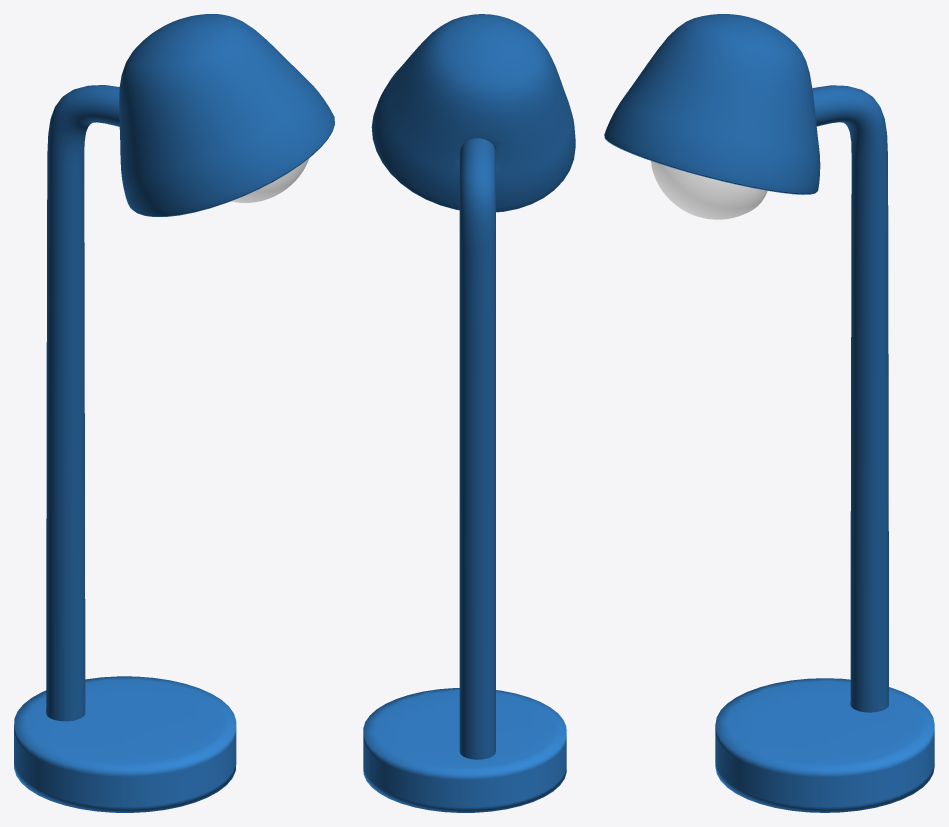
Rendered from 3D Lamp(1).fbx.
3 views of the same model, side by side, from view 1: azimuth 30°, elevation 25°; view 2: azimuth 150°, elevation 25°; view 3: azimuth 270°, elevation 25° (orthographic). The views are drawn at different scales.
Parts seen in each view (by area): view 1: pCylinder26; view 2: pCylinder26; view 3: pCylinder26.
Boxes of the visible parts, x1,y1,x2,y2 form: pCylinder26: (14, 14, 334, 812); pCylinder26: (363, 14, 575, 812); pCylinder26: (604, 14, 934, 812).
Size of the model in its own units: 1.24 by 3.84 by 1.51.
